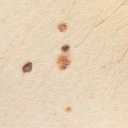Melanoma: (57, 44, 72, 70), (22, 61, 33, 75)
